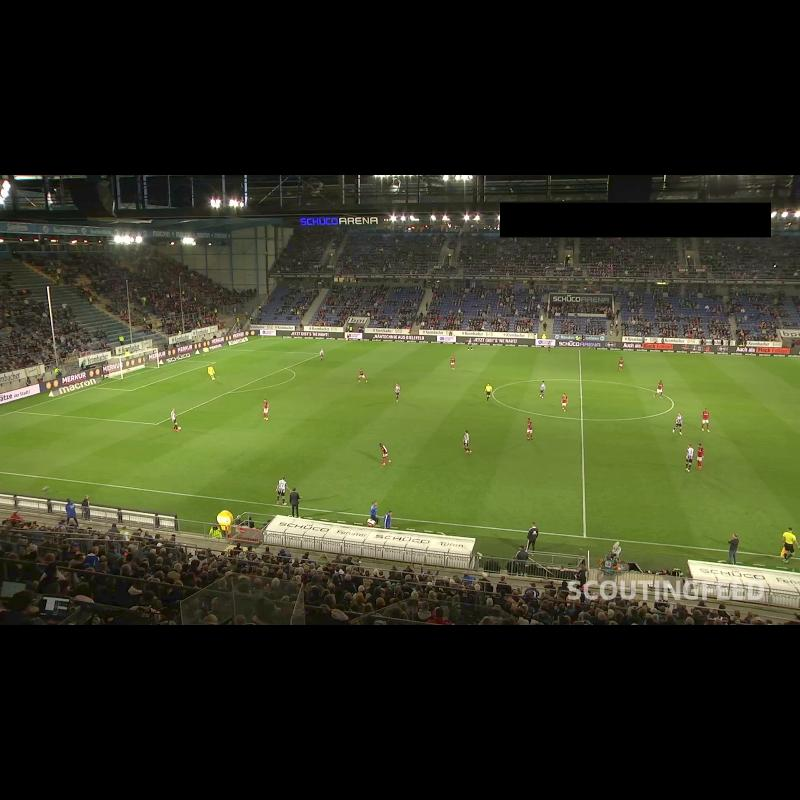cross_recipient_zone: (16, 349, 322, 424)
crossing_player_zone: (0, 412, 246, 490), (224, 338, 406, 356), (776, 357, 800, 373)
pitch: (0, 339, 800, 559)
